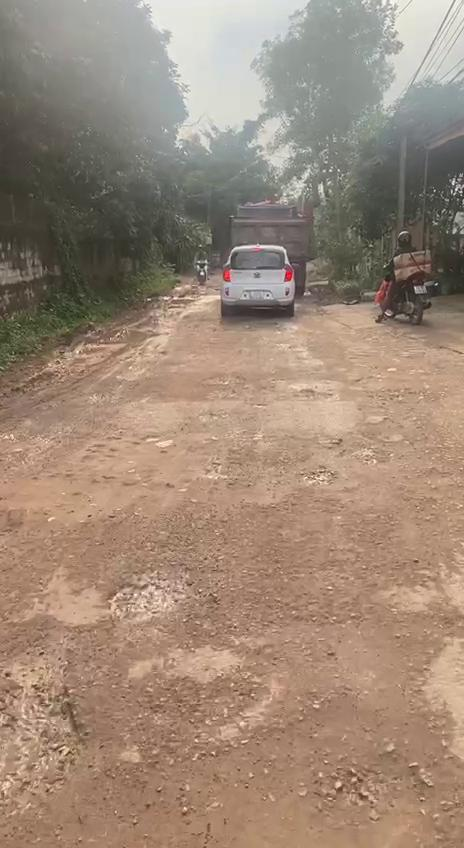pothole: (264, 584, 455, 754), (196, 747, 464, 848), (0, 658, 84, 812), (103, 560, 202, 630), (300, 466, 346, 488), (354, 444, 384, 468), (296, 387, 332, 401)
